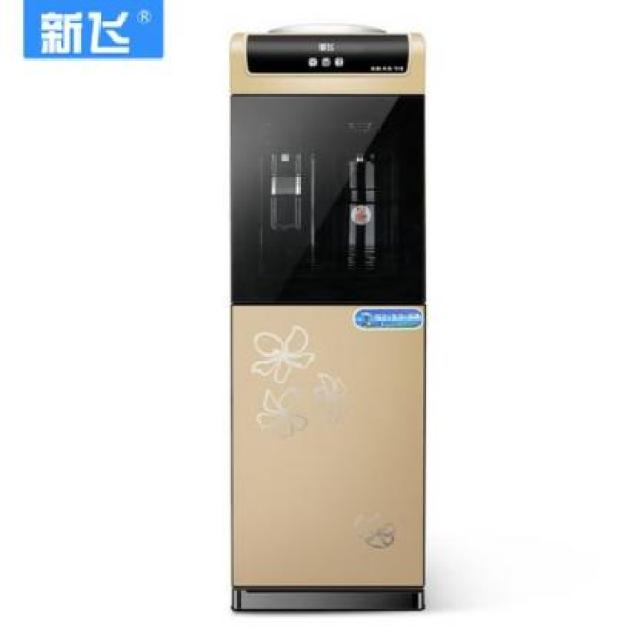cooler: (228, 20, 432, 618)
